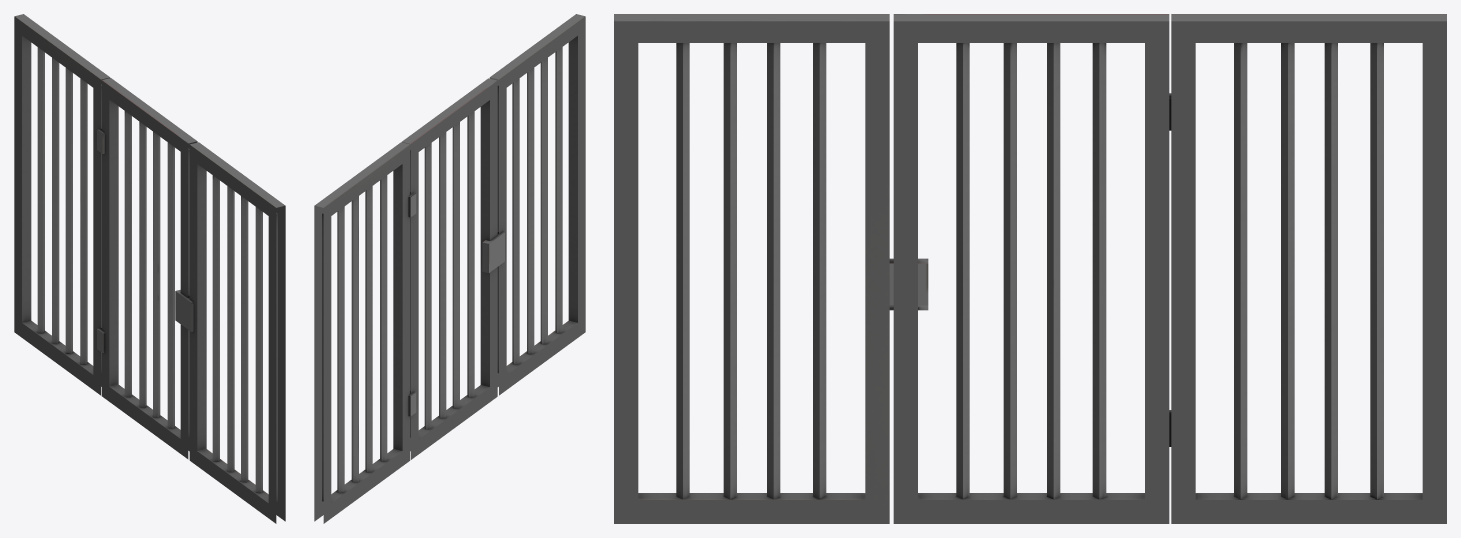
File: CellDoor.fbx
3 renders of one model, left to right at view 1: azimuth 30°, elevation 25°; view 2: azimuth 150°, elevation 25°; view 3: azimuth 270°, elevation 25°, orthographic. The views are drawn at different scales.
Visible parts, largest first — view 1: pCube29.004; view 2: pCube29.004; view 3: pCube29.004.
Boxes of the visible parts, x1=… form: pCube29.004: x1=14, y1=14, x2=285, y2=523; pCube29.004: x1=314, y1=14, x2=585, y2=523; pCube29.004: x1=614, y1=14, x2=1446, y2=523.
Size of the model in its own units: 0.0763 by 2 by 3.
